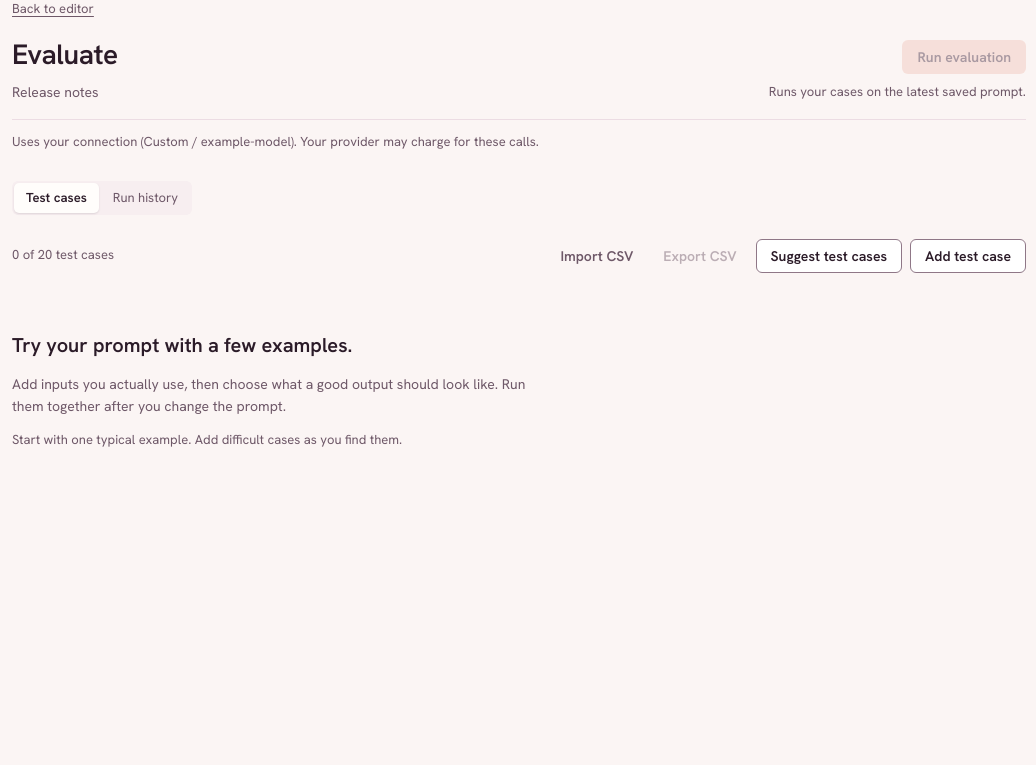
explains why an overall score waits for every manual rating
The width and height of the screenshot is (1036, 765).
Expected: the heading "Evaluate" is shown, top-left (12, 32), bottom-right (118, 77)
Click the radio button labelled "Run history" at (146, 198), box top-left (101, 183), bottom-right (190, 213)
(page scrolled)
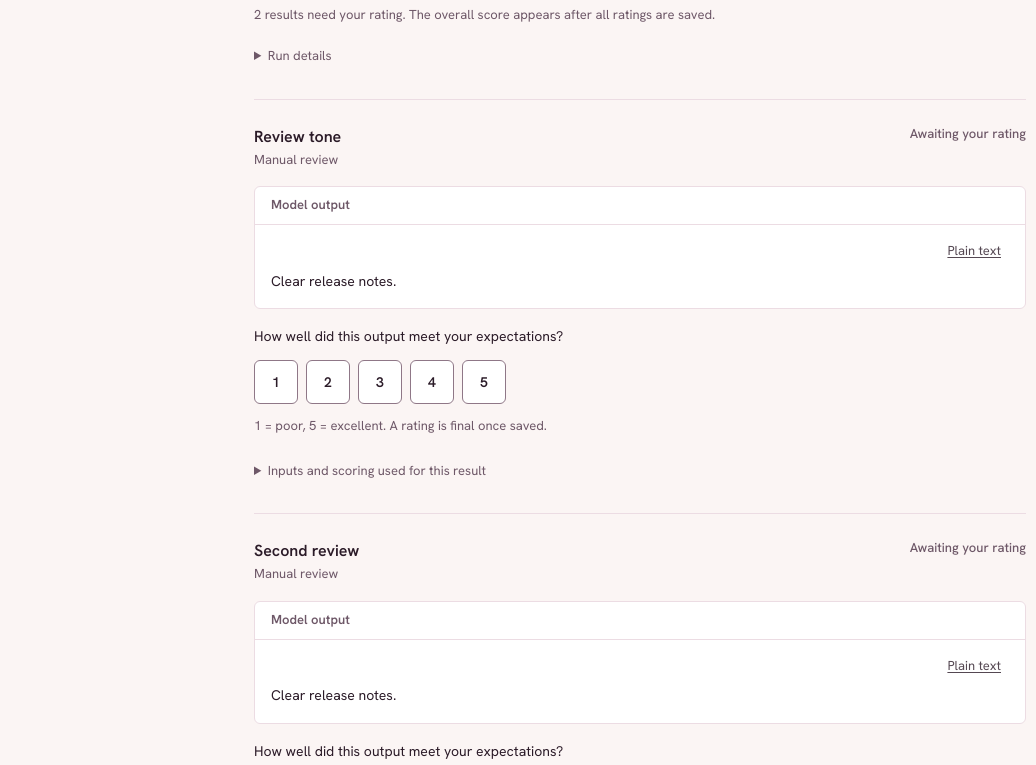
Click the button named "Rate 4 out of 5" at (432, 382), box top-left (410, 360), bottom-right (454, 404)
(page scrolled)
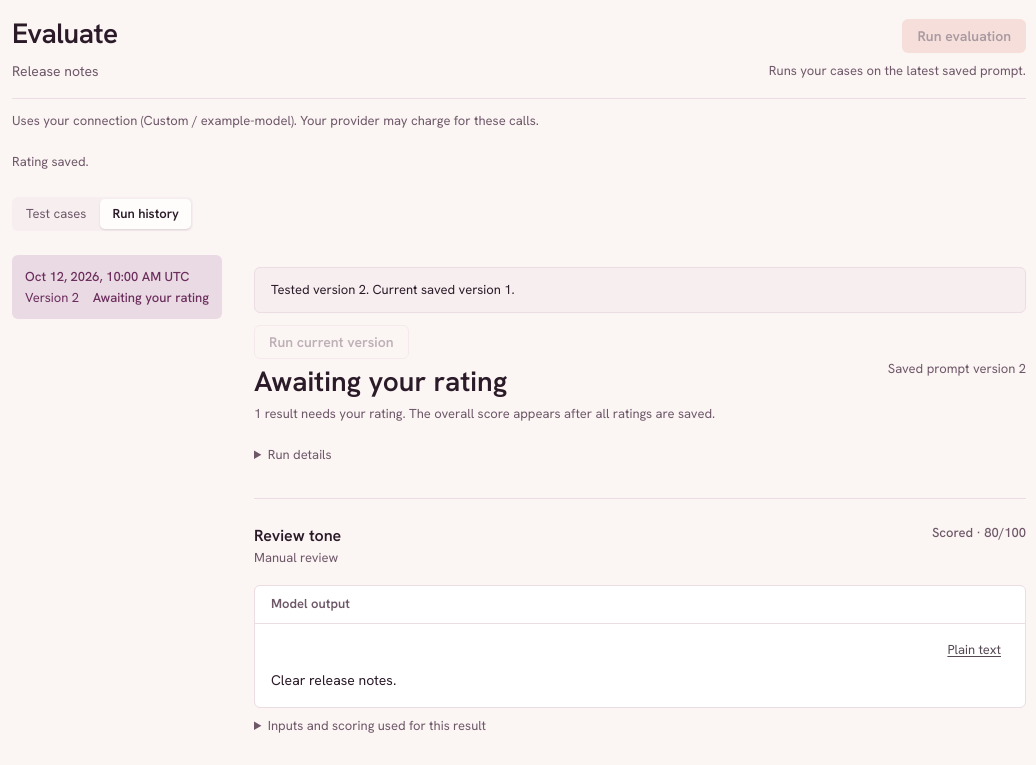
Now the heading "Awaiting your rating" is shown, box top-left (254, 363), bottom-right (507, 399)
Now the text "1 result needs your rating. The overall score appears after all ratings are saved." is shown, box top-left (254, 405), bottom-right (715, 422)
